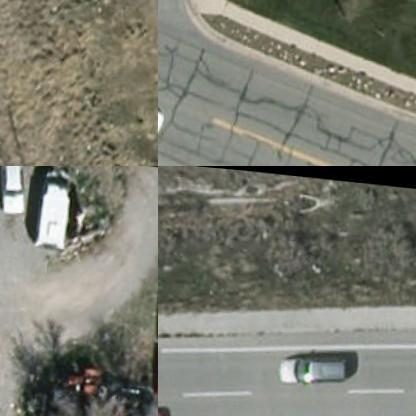camping car: (34, 166, 73, 243)
car: (278, 340, 350, 385), (0, 166, 30, 209), (158, 81, 174, 137), (149, 342, 157, 390)
tractor: (58, 356, 105, 390)
